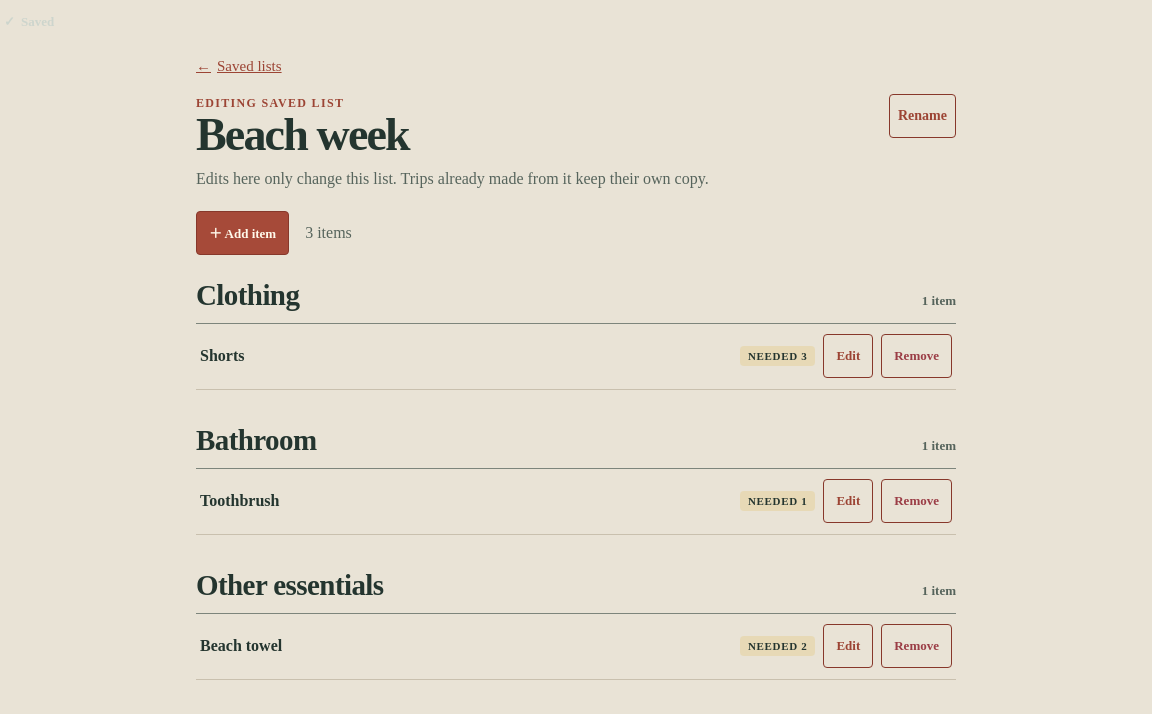
SavedListEditor › adds an item: name, category and quantity, with no packed state, then shows it
Check: the heading "Beach week" is shown, box [196,109,409,160]
Click the button "＋ Add item": (243, 233) [196,211,289,255]
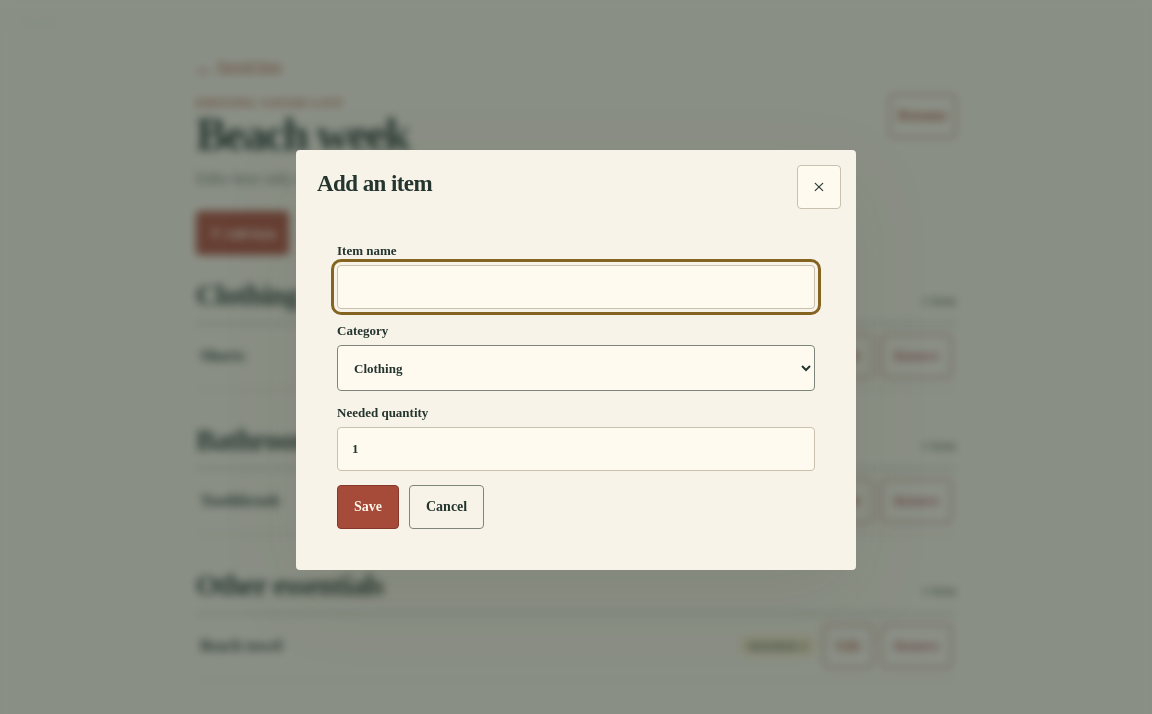
In the field labelled "Item name": (576, 287) [337,265,815,309], type "Camera"
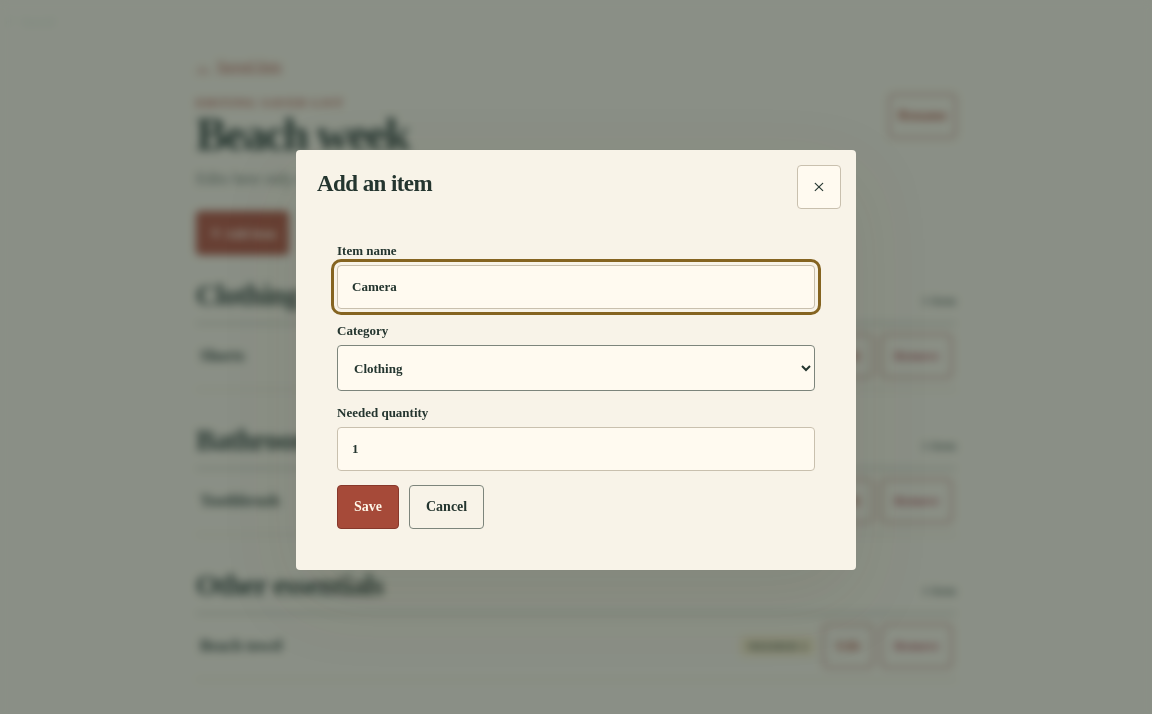
Select "Tech" in the dropdown labelled "Category": (576, 368) [337,345,815,391]
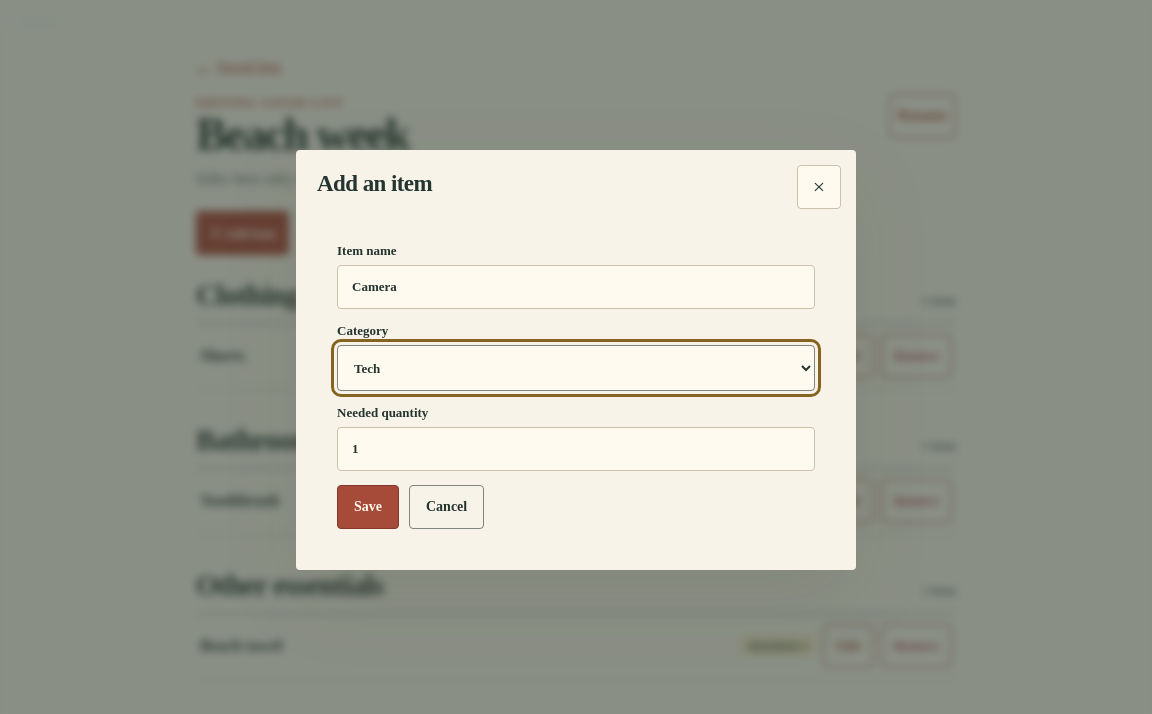
Replace the text in the number field labelled "Needed quantity" with "2": (576, 449) [337,427,815,471]
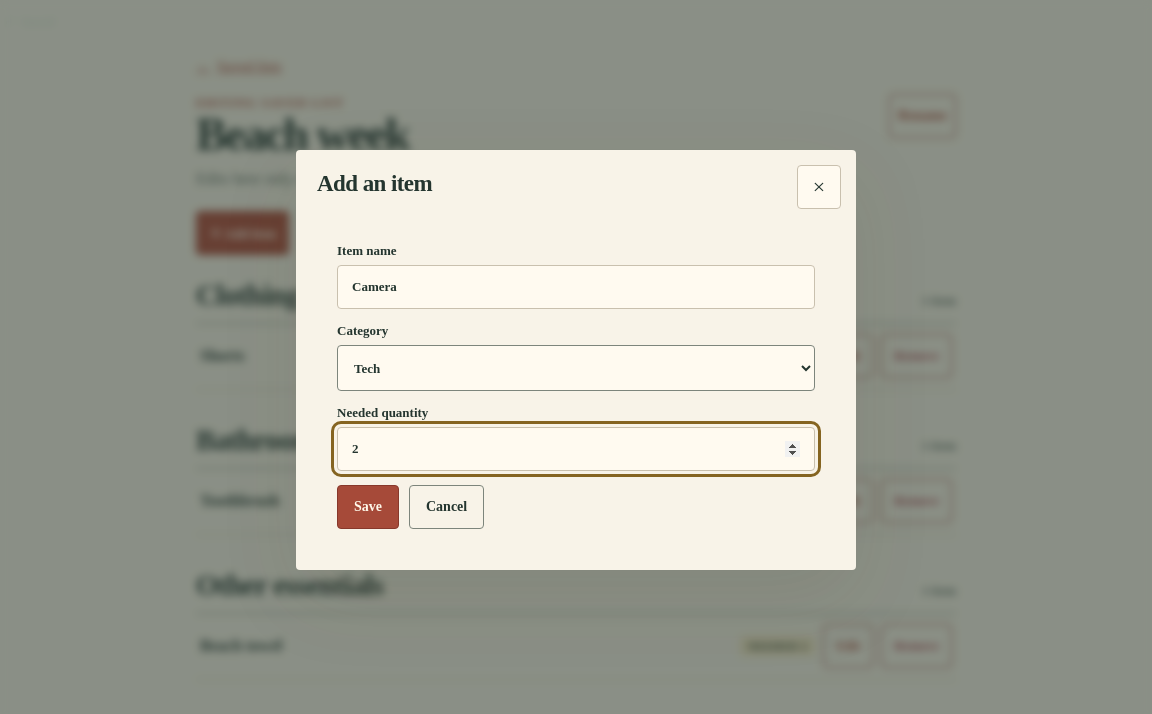
Click the button "Save": (368, 507) [337,485,399,529]
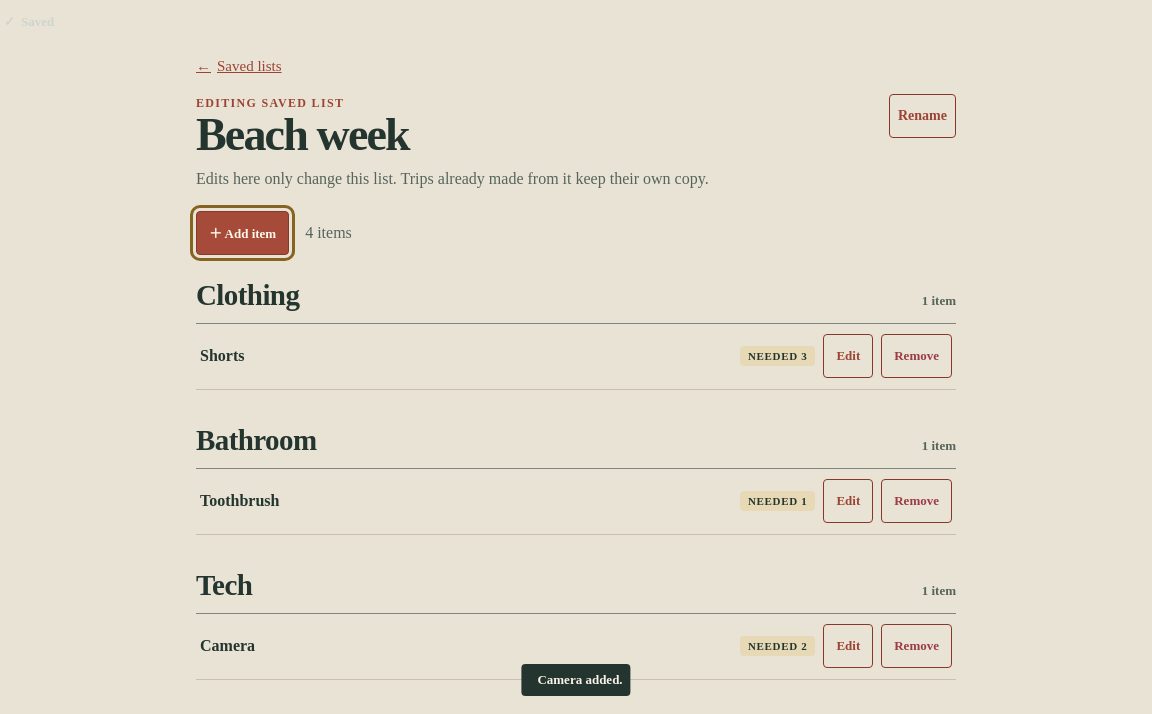
Check: the text "Camera added." is shown, box [537,672,623,688]
Check: the text "Camera" is shown, box [200,637,255,655]
Check: the dialog is gone
